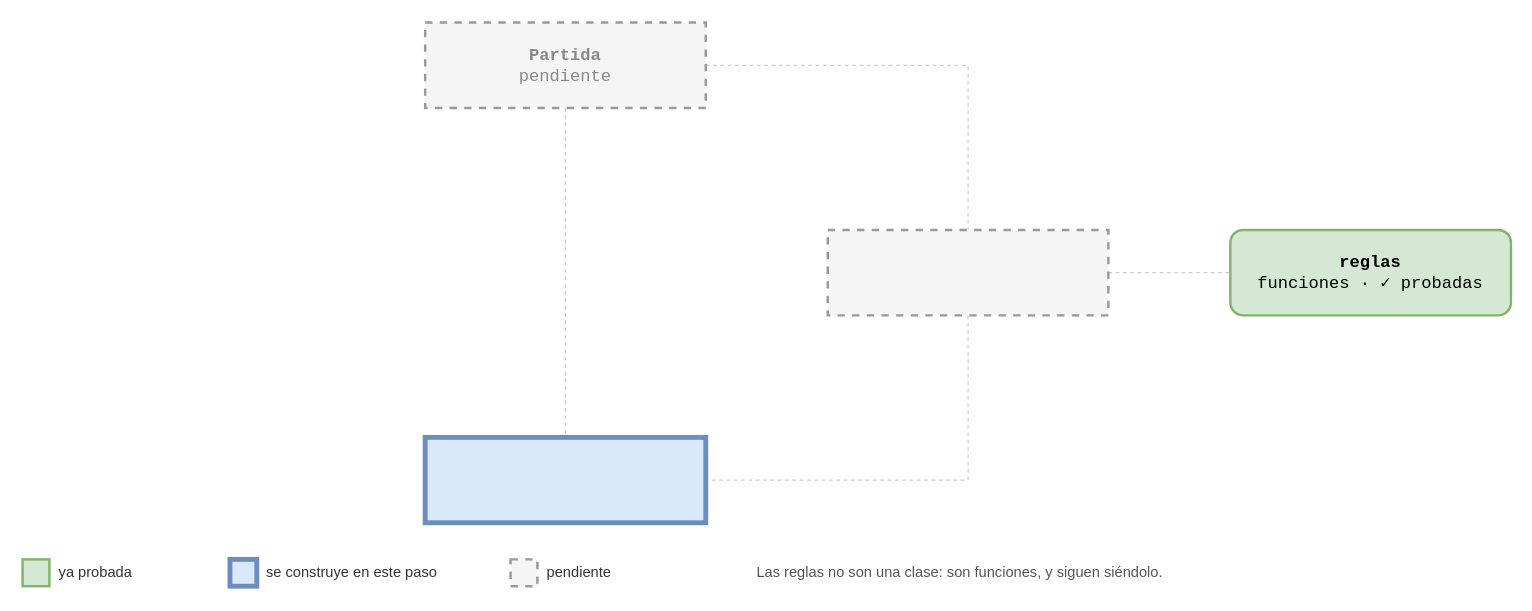
Some shapes in this 1532 by 611 pixel diagram are drawn without their labels. Each missing label, with the centre of its shape:
Jugador nombre y puntos: [565,479]
Ronda pendiente: [967,272]
